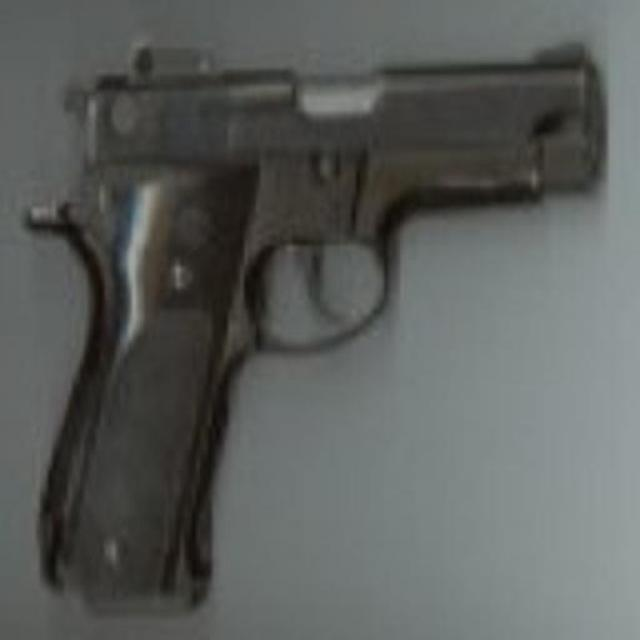pistol: (27, 31, 607, 617)
